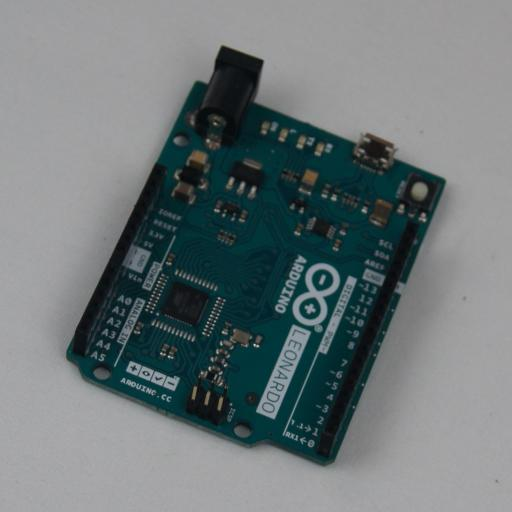Arduino Leonardo: (66, 46, 445, 466)
